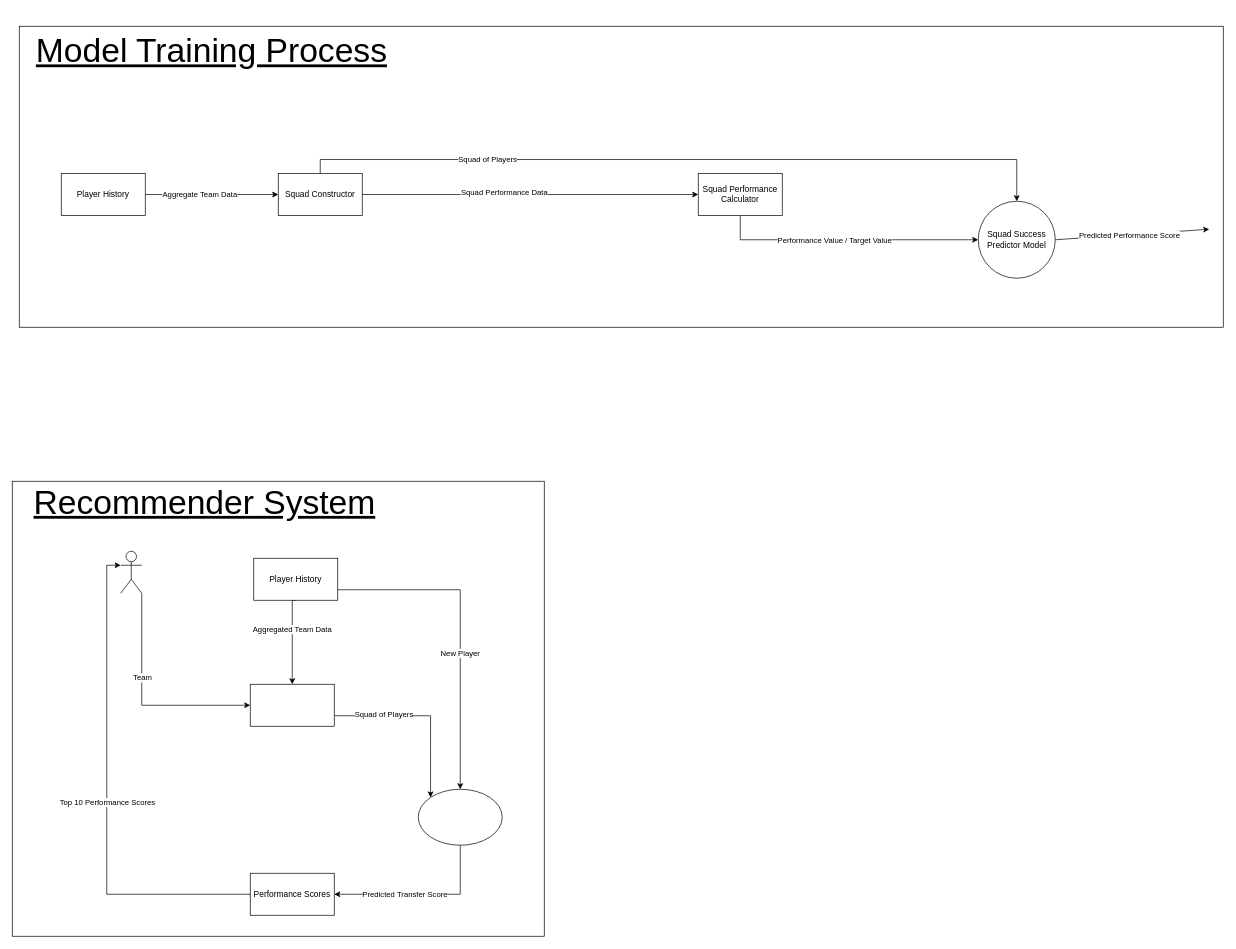
Image size: 1236x949. Some labels were removed from this diagram. The shapes that lost their labels are listed below. From the top down, each one's box as (x1, y1, x2, y2) in pixels, then its label:
(120, 551, 142, 593): Actor
(250, 684, 334, 726): Team Constructor
(418, 789, 502, 845): Trained Squad Performance Model
